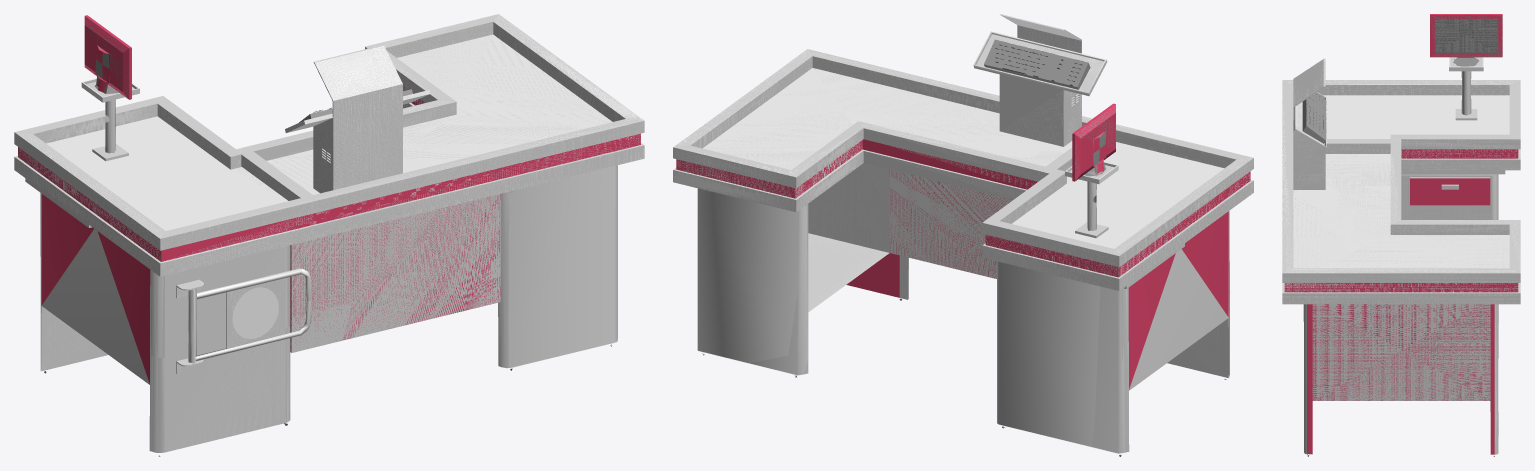
Rendered from shop-counter.glb.
The picture shows the model from 3 angles, left to right: view 1: azimuth 30°, elevation 25°; view 2: azimuth 150°, elevation 25°; view 3: azimuth 270°, elevation 25°; orthographic projection. The views are drawn at different scales.
Visible parts, largest first — view 1: cash_desk; view 2: cash_desk; view 3: cash_desk.
Part boxes in pixels (x1,y1,x2,y2): cash_desk: (14,14,644,456); cash_desk: (673,14,1253,456); cash_desk: (1282,14,1520,456).
Size of the model in its own units: 1.72 by 1.18 by 0.897.
Materials: 1 (1 with a texture image).
